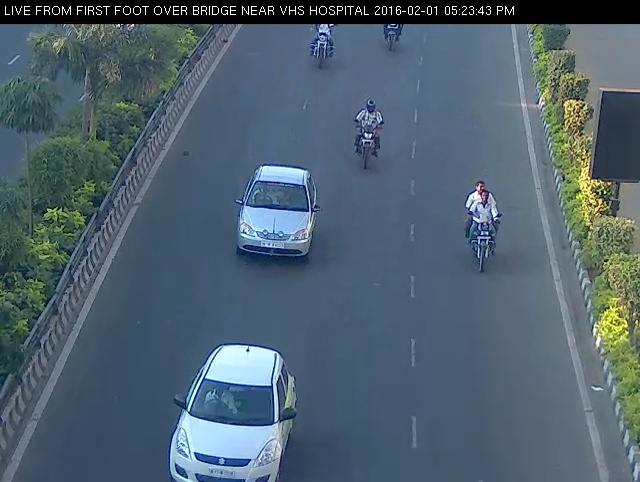Car: (156, 338, 304, 482), (229, 147, 326, 271)
Person: (450, 167, 512, 280), (343, 87, 392, 177), (300, 18, 343, 73), (376, 14, 406, 55)
